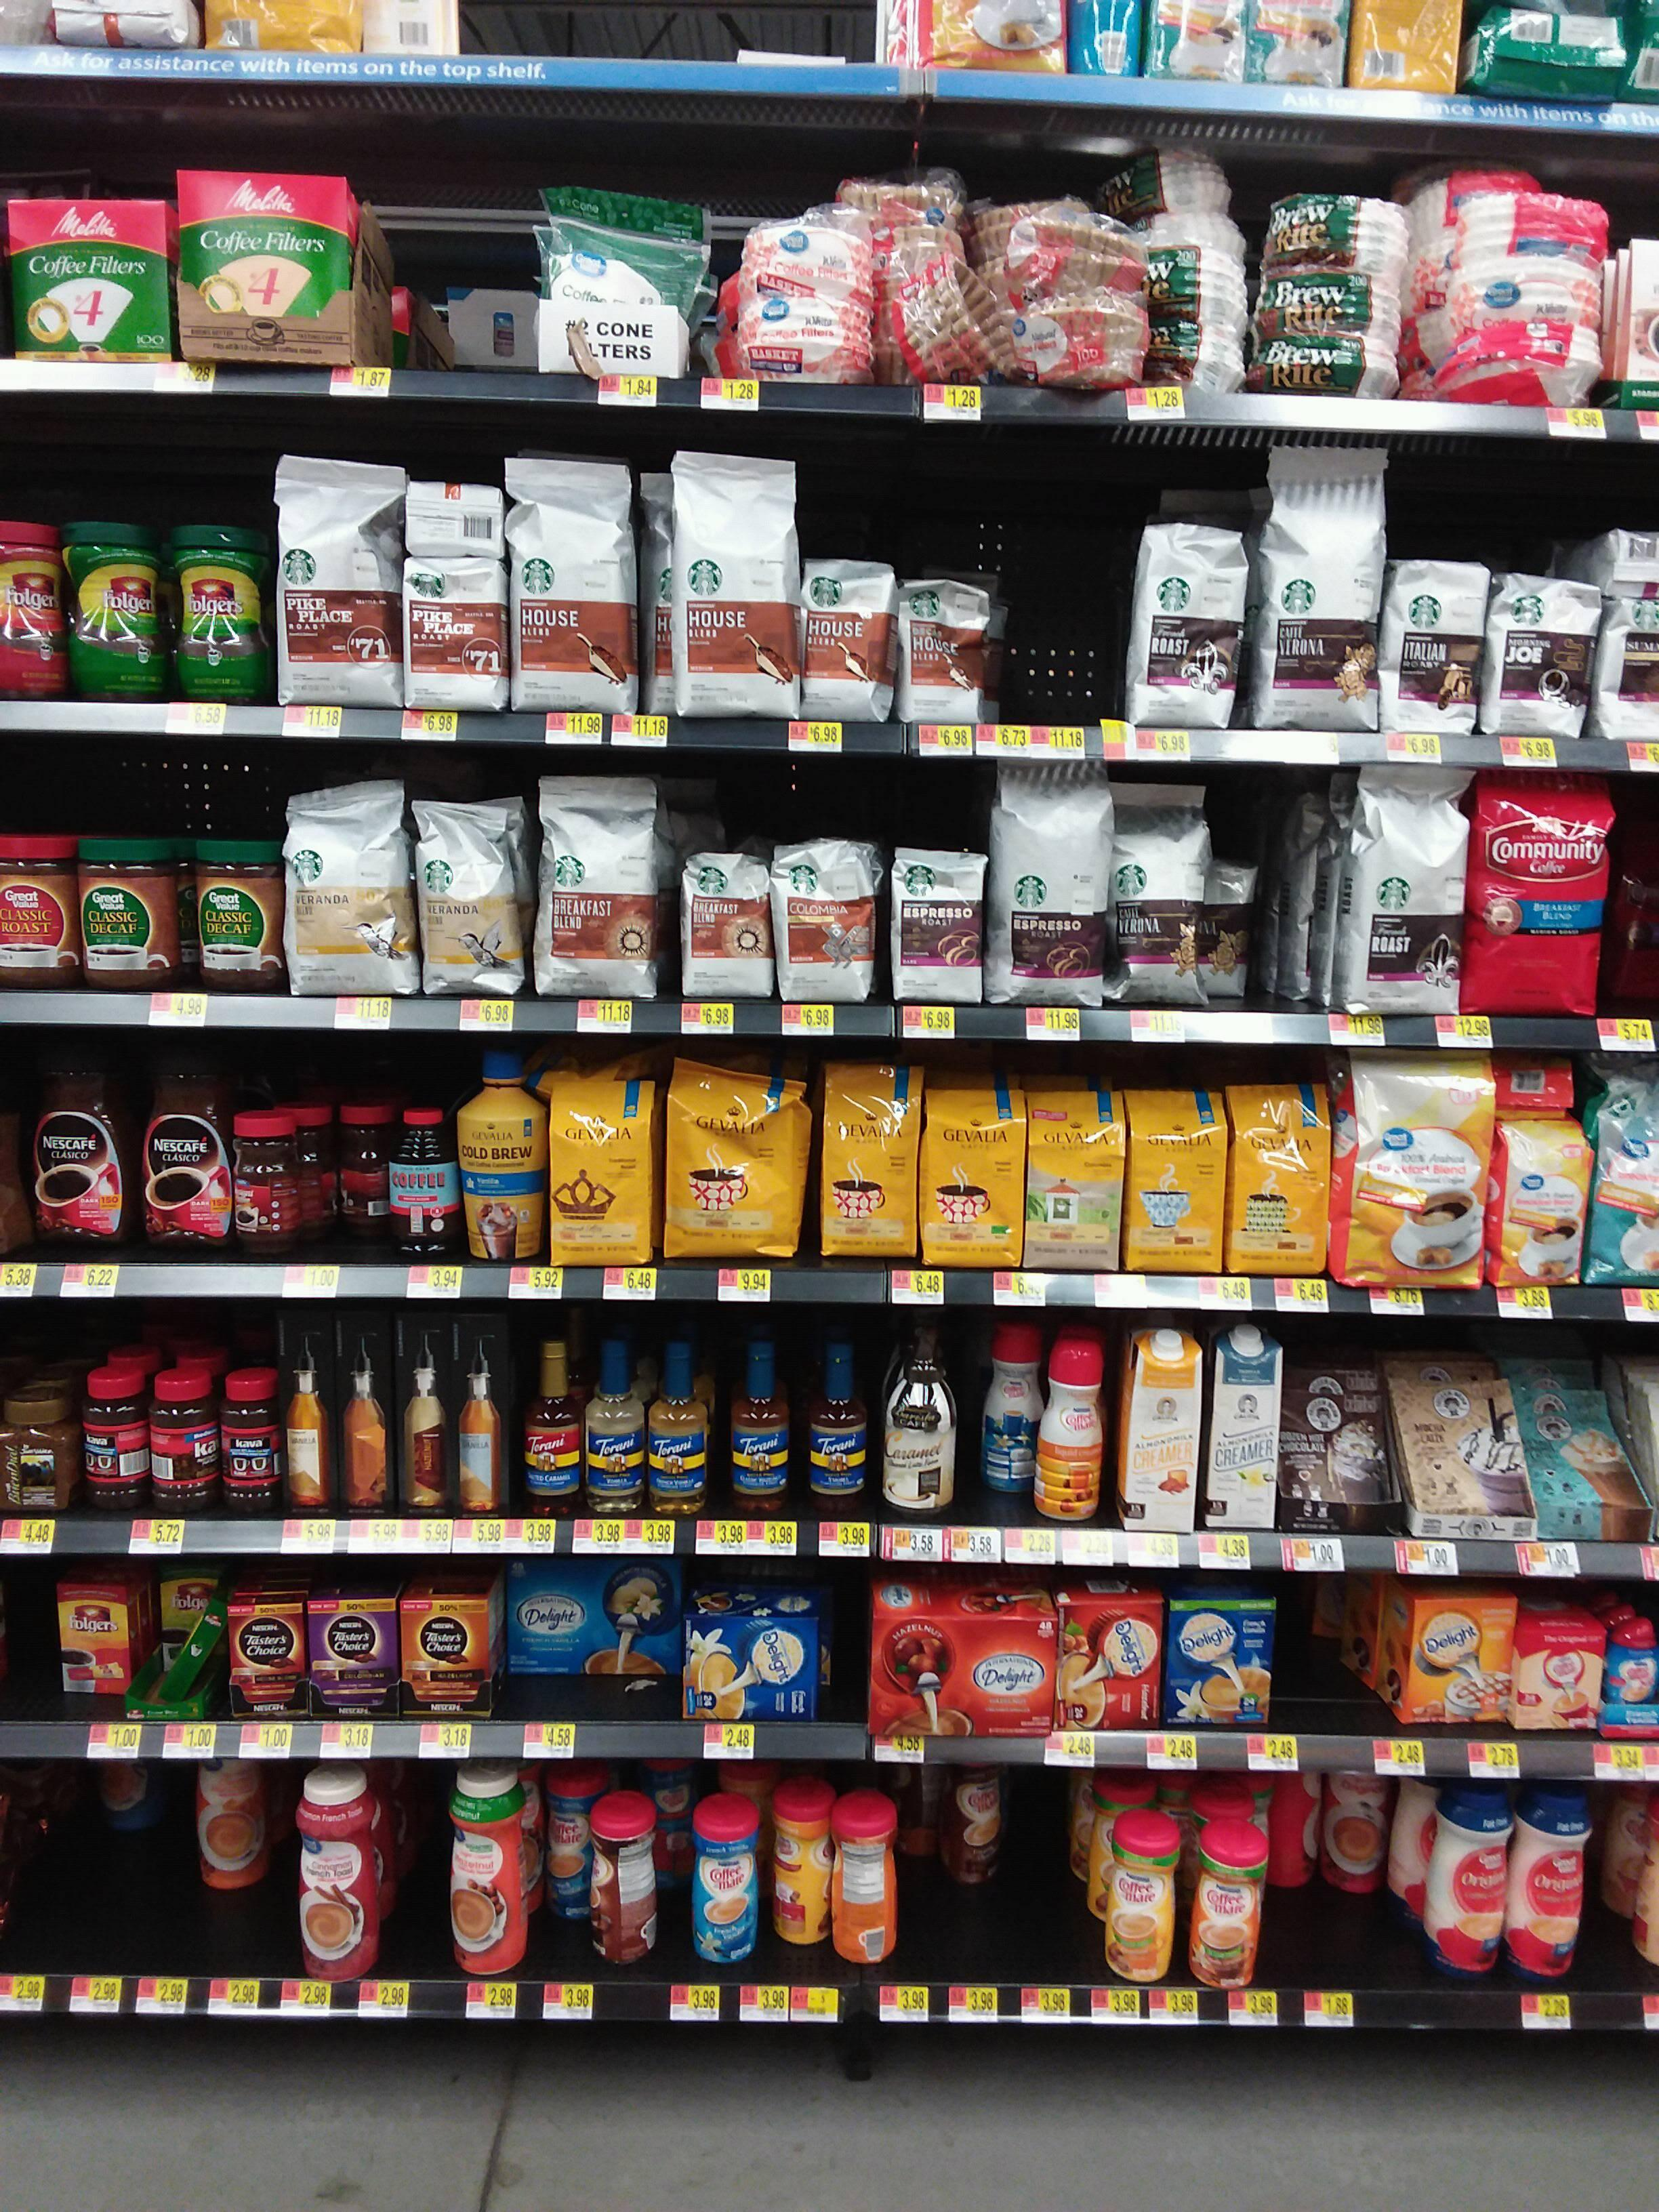misalignment: (1335, 1571, 1518, 1726), (666, 1595, 823, 1726), (1467, 3, 1638, 110), (1056, 1590, 1166, 1730), (894, 263, 1004, 385), (584, 1803, 666, 1965), (1040, 1348, 1114, 1517), (833, 1794, 904, 1959), (225, 1109, 305, 1254), (765, 1784, 831, 1952), (148, 1597, 225, 1714)
